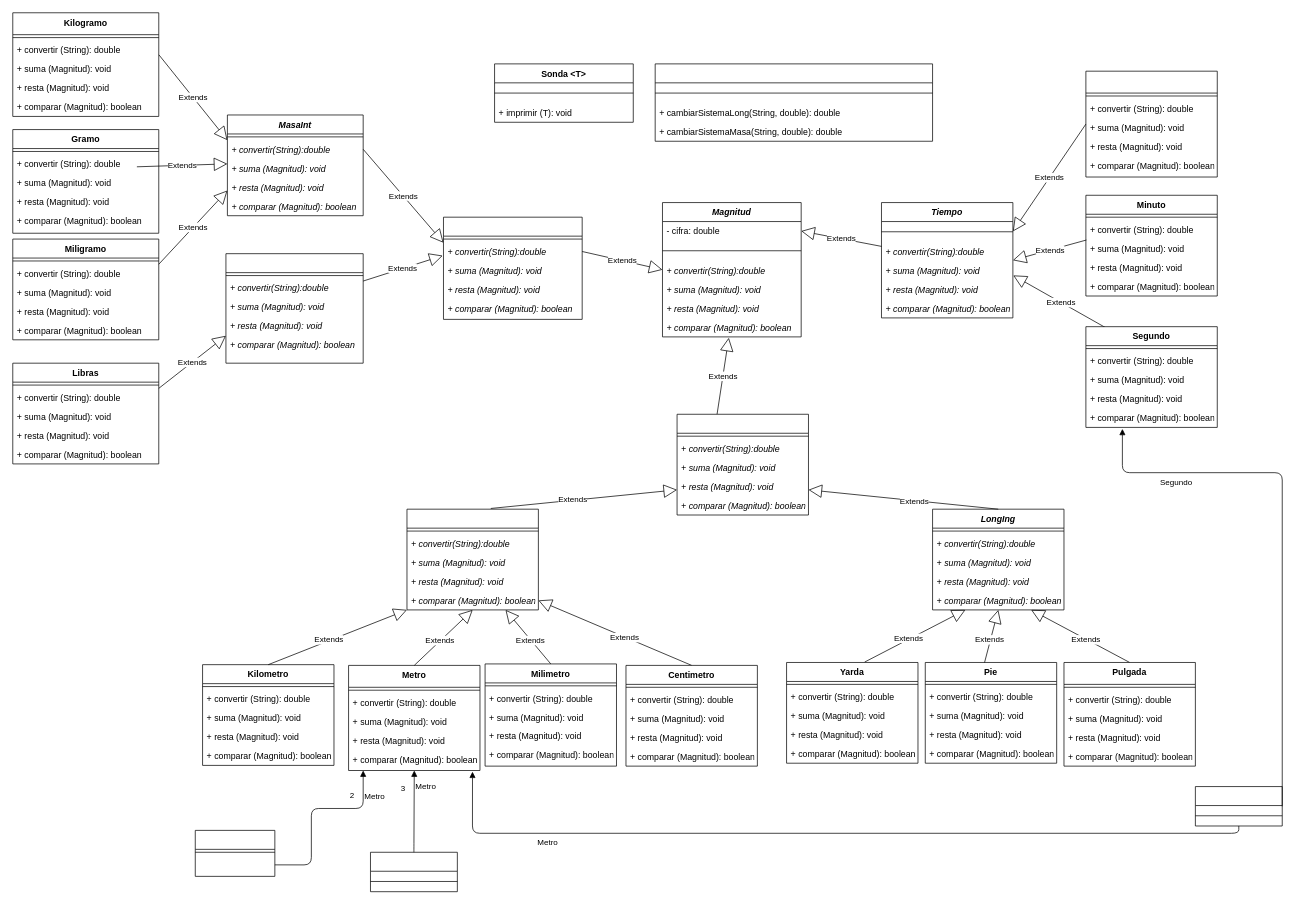
This 1301x904 diagram has some shape labels left out. The box of each missing label's shape, as (x1, y1, x2, y2) in pixels:
Conversoraotrosist: (654, 63, 933, 141)
Hora: (1085, 70, 1217, 177)
LongInt: (406, 508, 538, 610)
Longitud: (676, 414, 808, 515)
Masa: (443, 216, 582, 319)
MasaIng: (225, 253, 363, 363)
Superficie: (195, 830, 275, 876)
Velocidad: (1195, 786, 1282, 826)
Volumen: (370, 852, 457, 892)
